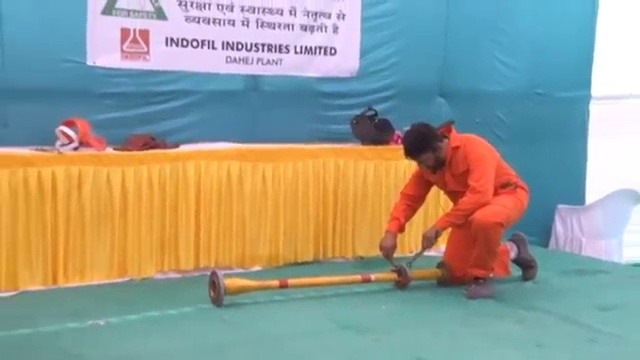helmet_off: (403, 121, 449, 171)
person: (387, 121, 540, 289)
